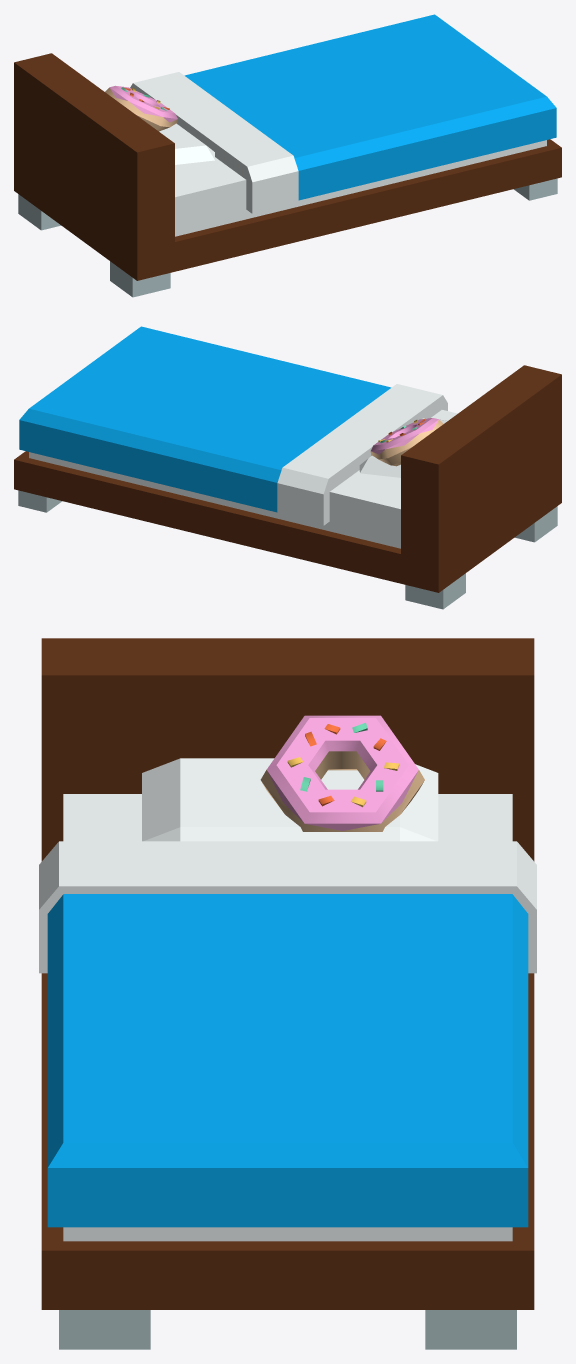
3 renders of one model, top to bottom at view 1: azimuth 30°, elevation 25°; view 2: azimuth 150°, elevation 25°; view 3: azimuth 270°, elevation 25°, orthographic. The views are drawn at different scales.
Parts seen in each view (by area): view 1: mergedBlocks(Clone); view 2: mergedBlocks(Clone); view 3: mergedBlocks(Clone).
Boxes of the visible parts, x1,y1,x2,y2 form: mergedBlocks(Clone): [14, 14, 561, 297]; mergedBlocks(Clone): [14, 326, 561, 609]; mergedBlocks(Clone): [39, 638, 536, 1349].
Size of the model in its own units: 1.69 by 0.5625 by 0.8565.
